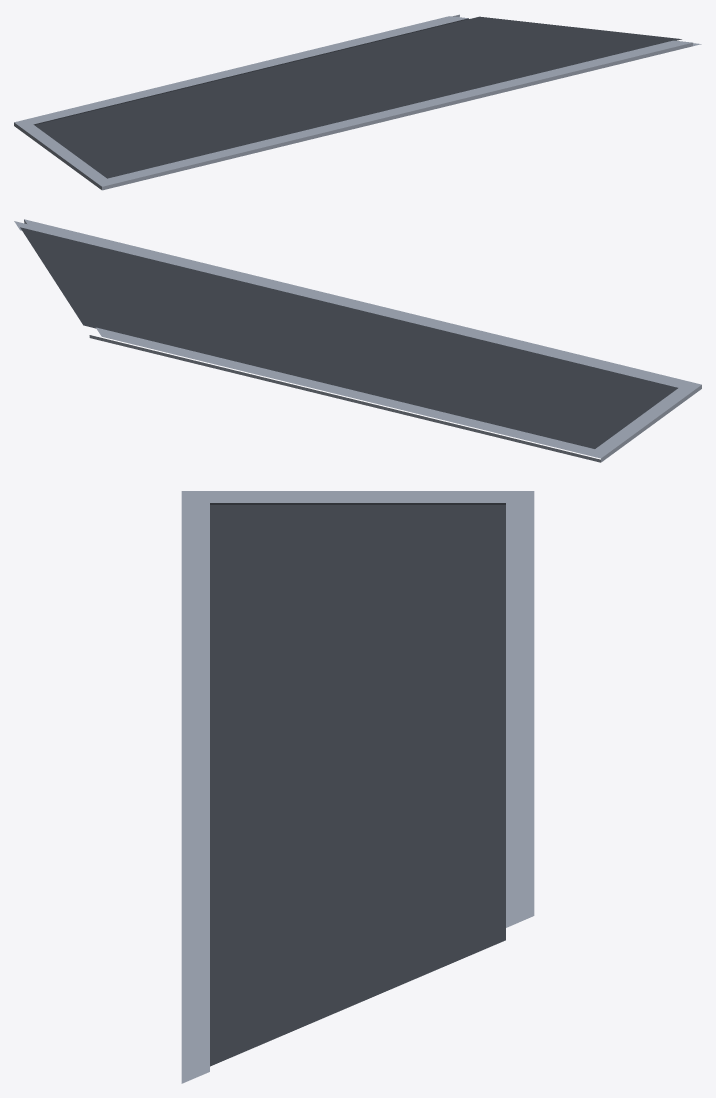
The model's file is acc.fbx.
3 views of the same model, one above another, from view 1: azimuth 30°, elevation 25°; view 2: azimuth 150°, elevation 25°; view 3: azimuth 270°, elevation 25° (orthographic). The views are drawn at different scales.
Parts seen in each view (by area): view 1: Plane.209; view 2: Plane.209; view 3: Plane.209.
Part boxes in pixels (x1,y1,x2,y2): Plane.209: [14, 14, 701, 190]; Plane.209: [14, 219, 701, 462]; Plane.209: [181, 491, 534, 1083].
Bounding box in the file's own units: 517 × 3.02 × 131.
